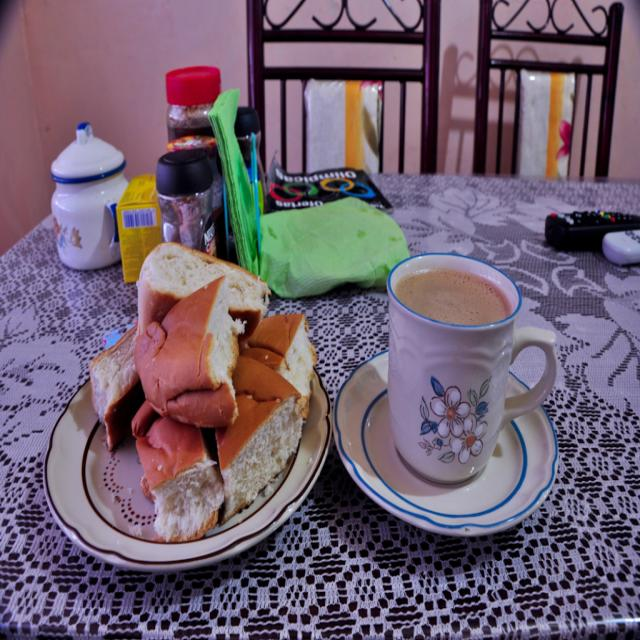Coffee: (378, 248, 555, 490), (393, 269, 505, 331)
Tea: (365, 256, 550, 496), (392, 266, 508, 329)
